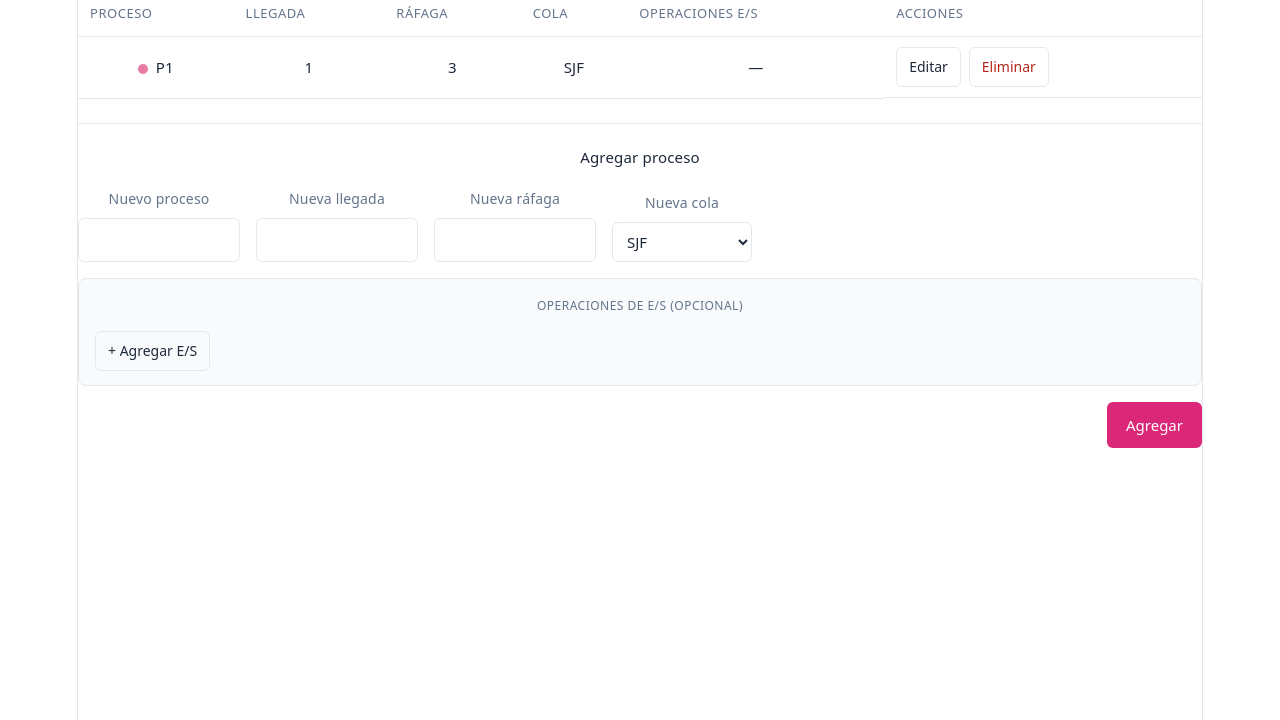
Test: ProcessTable › rejects adding a process whose id already exists
Type "P1" into the field labelled "Nuevo proceso" at (159, 240), box [78,218,240,262]
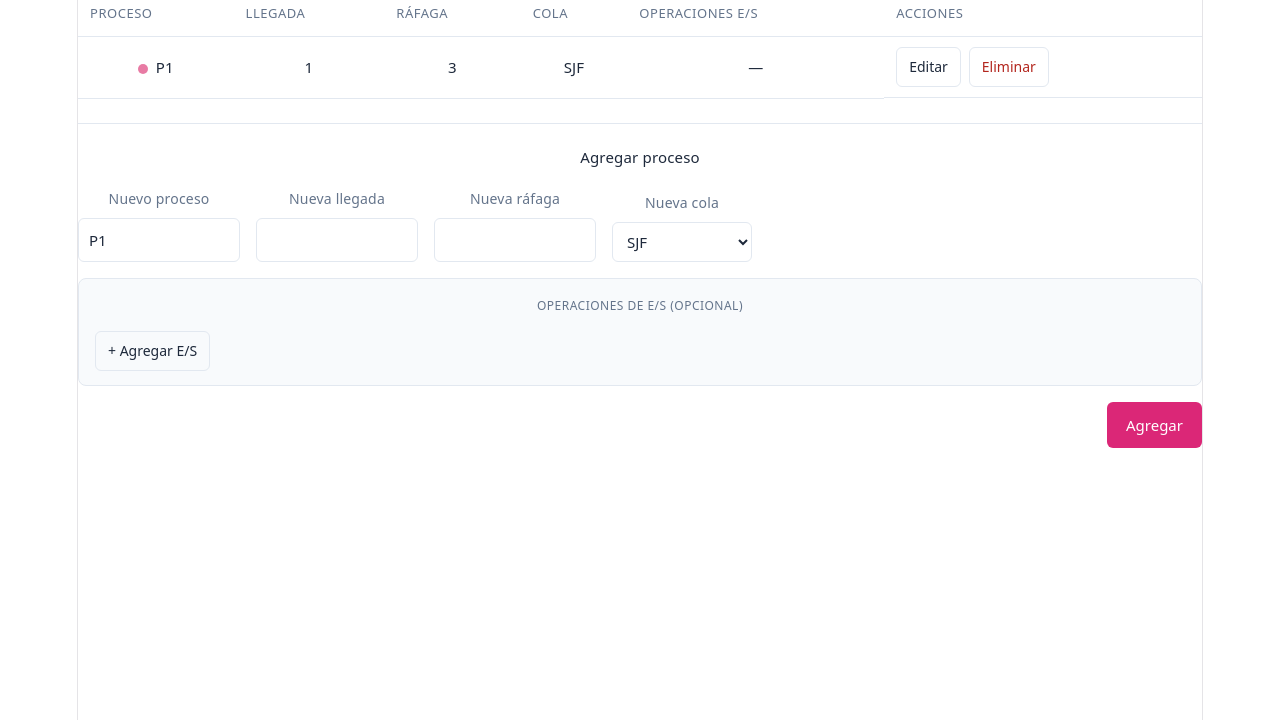
Type "1" into the field labelled "Nueva llegada" at (337, 240), box [256,218,418,262]
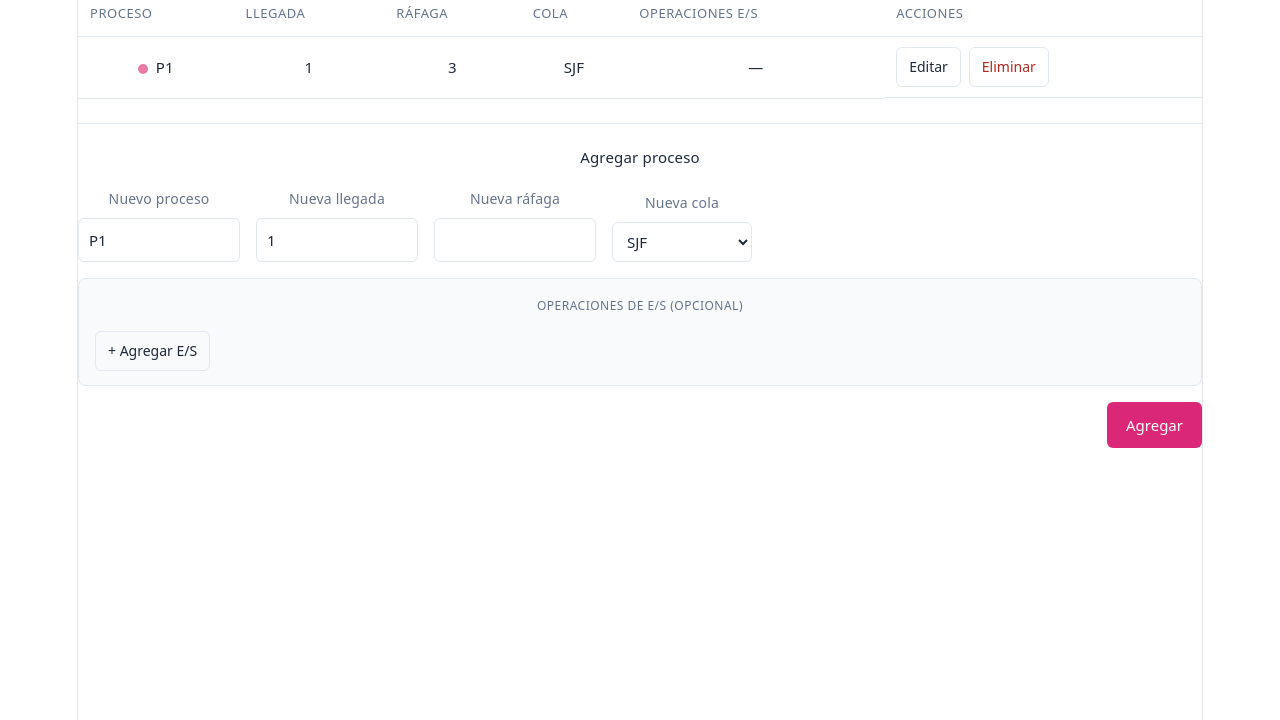
Type "5" into the field labelled "Nueva ráfaga" at (515, 240), box [434,218,596,262]
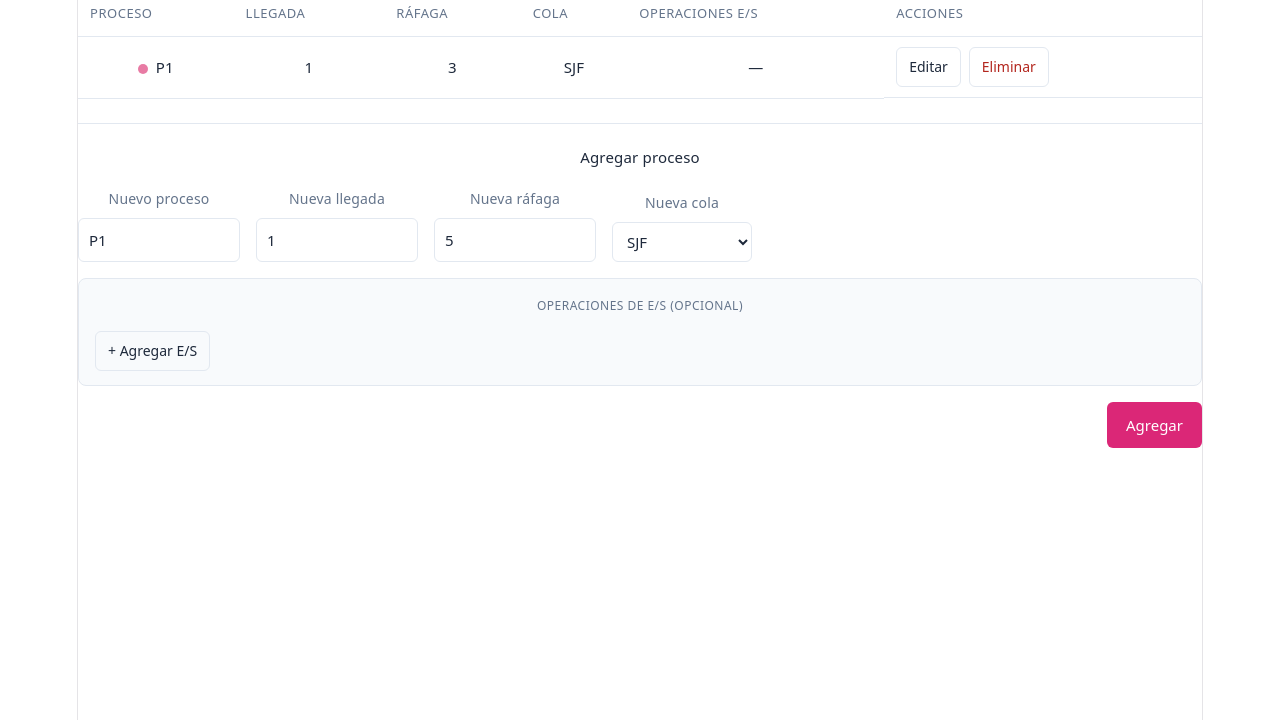
Click the button "Agregar" at (1154, 425), box [1107,402,1202,448]
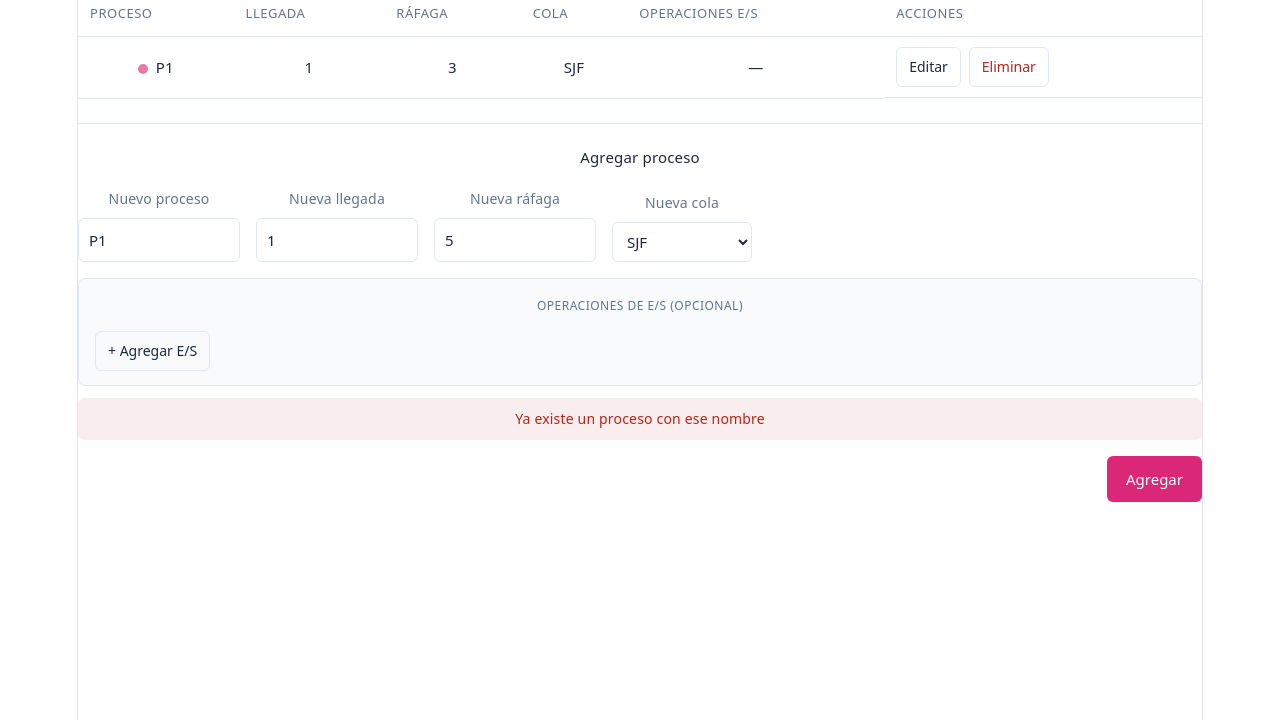
expect the message shows "Ya existe": met, box [515,409,765,428]
